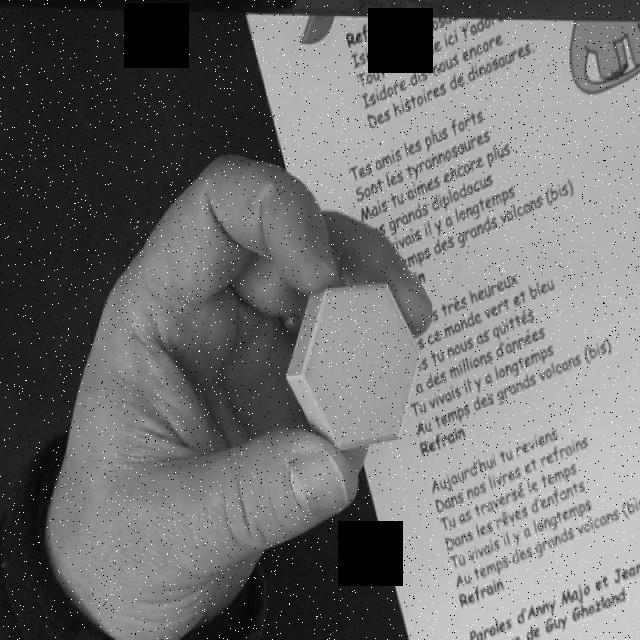hexagon: (286, 282, 419, 453)
